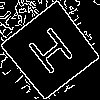H: (25, 25, 82, 83)
